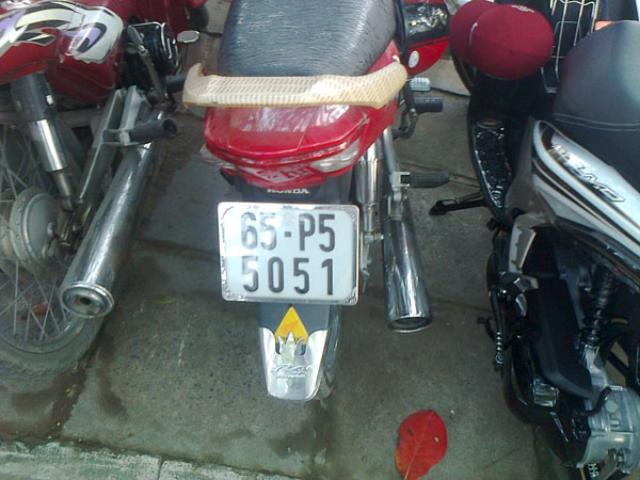plate: (223, 202, 361, 302)
